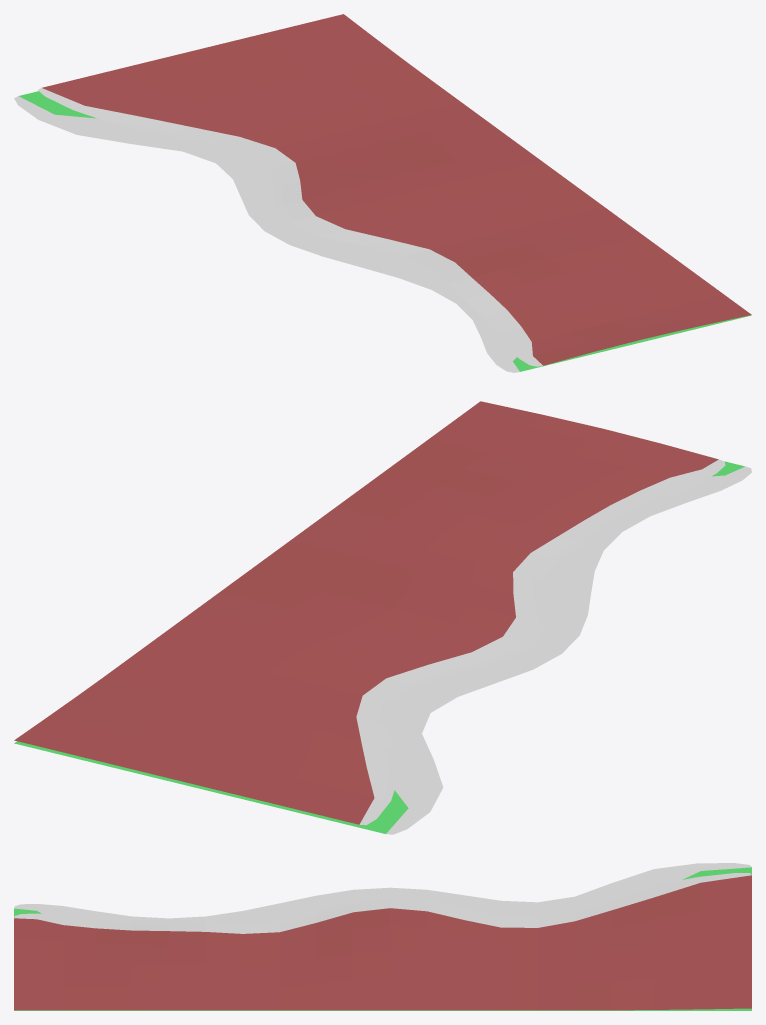
Rendered from ground_02a.fbx.
3 renders of one model, top to bottom at view 1: azimuth 30°, elevation 25°; view 2: azimuth 150°, elevation 25°; view 3: azimuth 270°, elevation 25°, orthographic. The views are drawn at different scales.
Parts seen in each view (by area): view 1: Plane.011; view 2: Plane.011; view 3: Plane.011.
Part boxes in pixels (left/top/right/bottom): Plane.011: left=14, top=14, right=751, bottom=372; Plane.011: left=14, top=401, right=751, bottom=834; Plane.011: left=14, top=863, right=751, bottom=1010.
Size of the model in its own units: 289 by 2.93 by 610.
